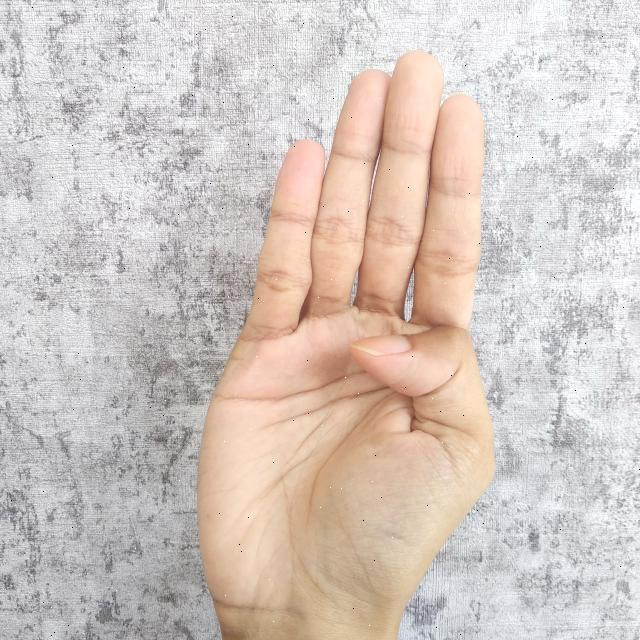B: (192, 45, 513, 640)
